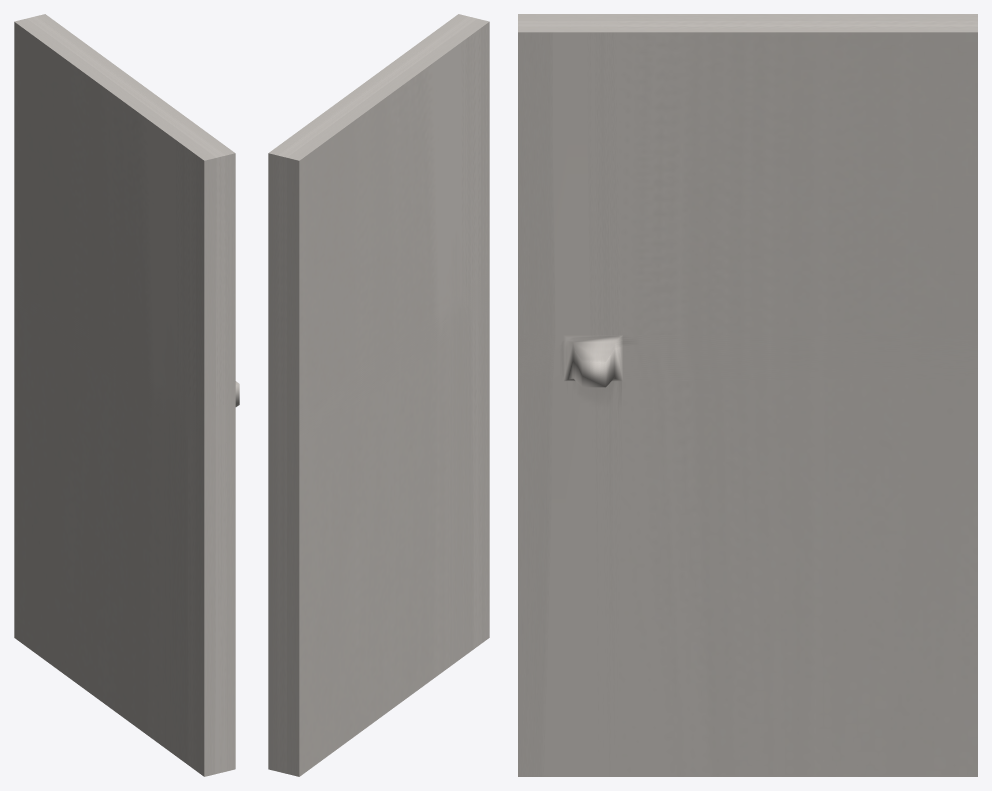
The model's file is Door.fbx.
3 renders of one model, left to right at view 1: azimuth 30°, elevation 25°; view 2: azimuth 150°, elevation 25°; view 3: azimuth 270°, elevation 25°, orthographic. The views are drawn at different scales.
Parts seen in each view (by area): view 1: Door:Door:pCube1; view 2: Door:Door:pCube1; view 3: Door:Door:pCube1.
Boxes of the visible parts, bbox=[...] form: Door:Door:pCube1: bbox=[14, 14, 239, 776]; Door:Door:pCube1: bbox=[268, 14, 489, 776]; Door:Door:pCube1: bbox=[518, 14, 977, 776].
Bounding box in the file's own units: 1.46 × 13.88 × 7.76.
